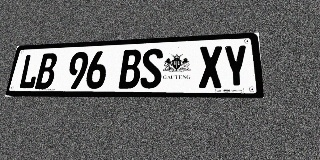6: (85, 51, 109, 89)
9: (66, 52, 90, 89)
B: (118, 49, 142, 89), (35, 53, 58, 89)
L: (18, 54, 41, 89)
S: (140, 48, 163, 88)
X: (199, 46, 223, 88)
Y: (223, 44, 250, 88)
